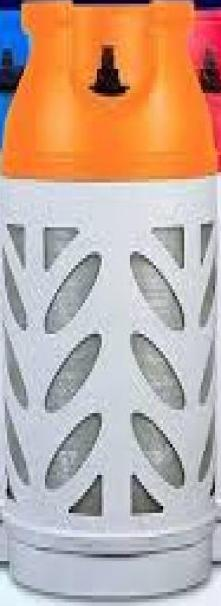cylinder: (1, 1, 221, 606)
